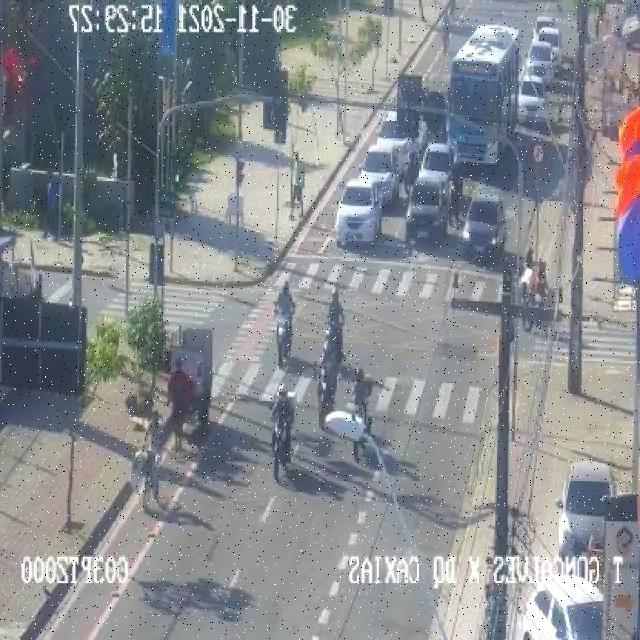Bus: (448, 24, 522, 167)
Car: (516, 575, 605, 640), (557, 461, 617, 557), (406, 144, 456, 233), (368, 113, 422, 190), (334, 180, 390, 248), (460, 188, 508, 260), (359, 143, 404, 210), (524, 43, 558, 88)
